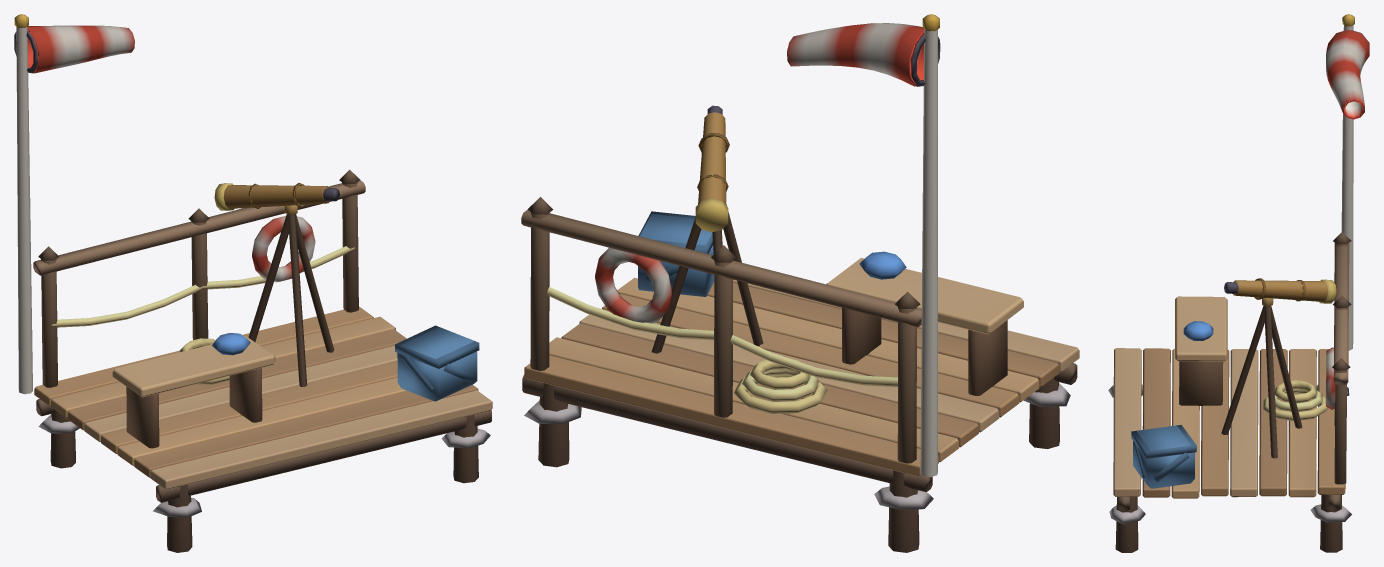
File: rg-tidepool-lookout.glb
3 renders of one model, left to right at view 1: azimuth 30°, elevation 25°; view 2: azimuth 150°, elevation 25°; view 3: azimuth 270°, elevation 25°, orthographic. The views are drawn at different scales.
Parts seen in each view (by area): view 1: rg-tidepool-lookout, rg-tidepool-lookout_cloth; view 2: rg-tidepool-lookout, rg-tidepool-lookout_cloth; view 3: rg-tidepool-lookout, rg-tidepool-lookout_cloth.
Boxes of the visible parts, x1,y1,x2,y2 form: rg-tidepool-lookout: (14,14,492,552); rg-tidepool-lookout_cloth: (27,25,134,73); rg-tidepool-lookout: (521,14,1079,552); rg-tidepool-lookout_cloth: (787,23,924,86); rg-tidepool-lookout: (1108,14,1369,552); rg-tidepool-lookout_cloth: (1326,30,1369,119).
Size of the model in its own units: 2.44 by 3 by 1.79.
